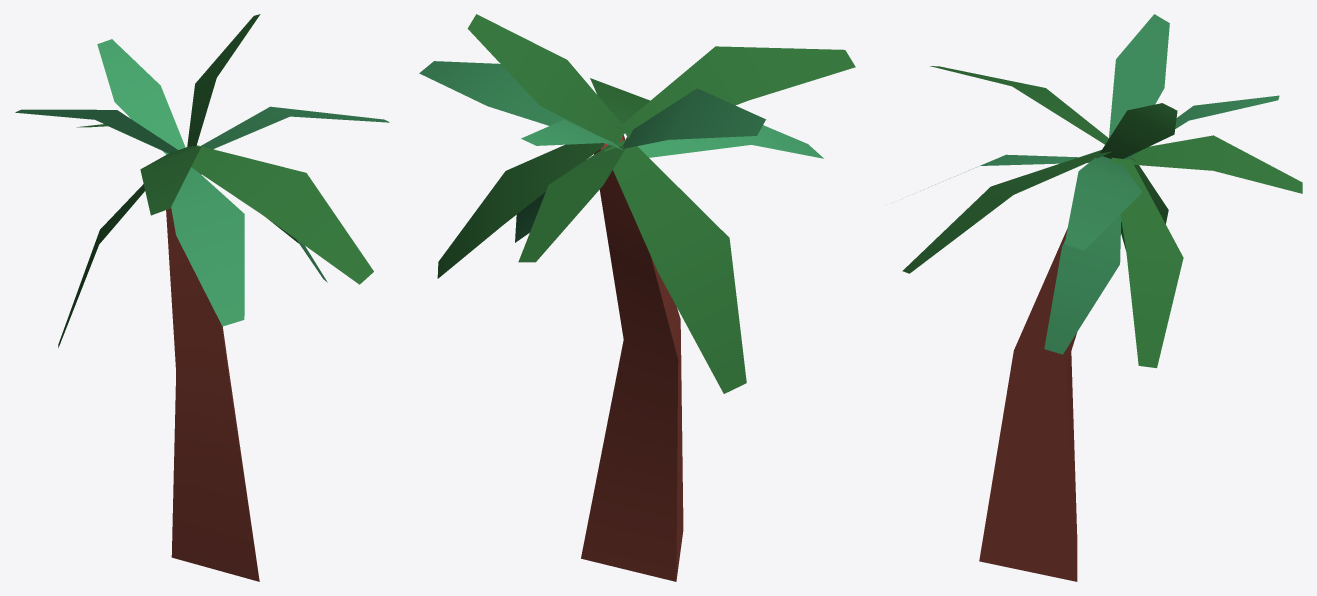
The model's file is jungleTree.fbx.
3 renders of one model, left to right at view 1: azimuth 30°, elevation 25°; view 2: azimuth 150°, elevation 25°; view 3: azimuth 270°, elevation 25°, orthographic. The views are drawn at different scales.
Parts seen in each view (by area): view 1: jungleTree; view 2: jungleTree; view 3: jungleTree.
Part boxes in pixels (bbox=[...]): jungleTree: bbox=[15, 14, 389, 581]; jungleTree: bbox=[419, 14, 855, 581]; jungleTree: bbox=[902, 14, 1302, 581].
Size of the model in its own units: 389 by 543 by 409.
